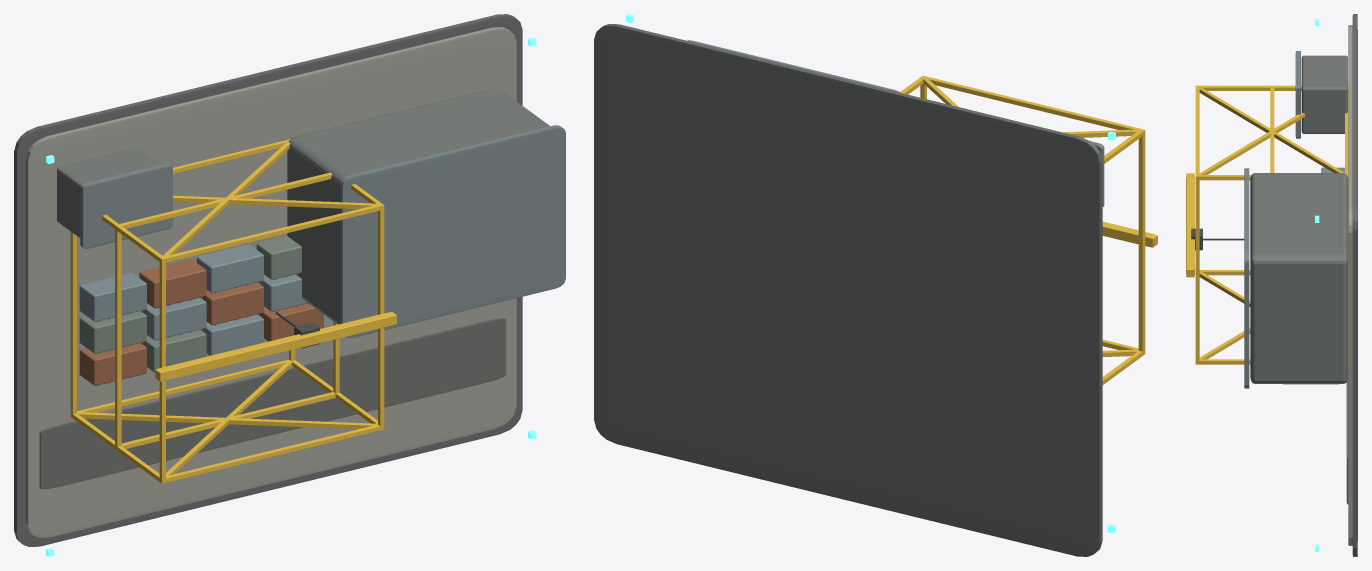
The model's file is b-08-logistics-hub-lod1.glb.
The picture shows the model from 3 angles, left to right: view 1: azimuth 30°, elevation 25°; view 2: azimuth 150°, elevation 25°; view 3: azimuth 270°, elevation 25°; orthographic projection. The views are drawn at different scales.
Parts seen in each view (by area): view 1: foundation_inner_pad, logistics_warehouse_roof, truck_lane_road, logistics_warehouse_main_hall, foundation, weigh_station_roof, main_gantry_crane_bridge, weigh_station_main_hall, freight_2_2_container, freight_2_0_container, freight_2_1_container, freight_0_0_container (+24 smaller); view 2: foundation, main_gantry_crane_beam_y_2_w, main_gantry_crane_beam_x_2_n, main_gantry_crane_bridge; view 3: logistics_warehouse_main_hall, weigh_station_main_hall, foundation, foundation_inner_pad, logistics_warehouse_roof, main_gantry_crane_brace_b_3.95, main_gantry_crane_beam_y_2_e, main_gantry_crane_bridge, main_gantry_crane_brace_a_3.95, main_gantry_crane_column_w_n, weigh_station_roof, main_gantry_crane_beam_x_2_n (+8 smaller).
Part boxes in pixels (box(x1,y1,x2,y2)): foundation_inner_pad: box(25, 27, 516, 537); logistics_warehouse_roof: box(340, 125, 565, 338); truck_lane_road: box(39, 318, 506, 489); logistics_warehouse_main_hall: box(287, 88, 549, 324); foundation: box(14, 14, 522, 547); weigh_station_roof: box(80, 163, 172, 248); main_gantry_crane_bridge: box(155, 312, 396, 381); weigh_station_main_hall: box(57, 148, 160, 238); freight_2_2_container: box(196, 244, 263, 293); freight_2_0_container: box(79, 273, 146, 321); freight_2_1_container: box(139, 259, 206, 308); freight_0_0_container: box(79, 343, 146, 385); foundation: box(594, 24, 1102, 556); main_gantry_crane_beam_y_2_w: box(1138, 129, 1145, 351); main_gantry_crane_beam_x_2_n: box(924, 76, 1145, 135); main_gantry_crane_bridge: box(1102, 221, 1157, 247); logistics_warehouse_main_hall: box(1250, 173, 1347, 383); weigh_station_main_hall: box(1301, 55, 1347, 133); foundation: box(1352, 14, 1357, 556); foundation_inner_pad: box(1348, 25, 1352, 545); logistics_warehouse_roof: box(1244, 168, 1249, 388); main_gantry_crane_brace_b_3.95: box(1199, 87, 1344, 173); main_gantry_crane_beam_y_2_e: box(1195, 175, 1199, 363); main_gantry_crane_bridge: box(1186, 173, 1194, 277); main_gantry_crane_brace_a_3.95: box(1199, 112, 1304, 174); main_gantry_crane_column_w_n: box(1199, 85, 1301, 90); weigh_station_roof: box(1295, 51, 1300, 138); main_gantry_crane_beam_x_2_n: box(1195, 86, 1199, 180).
Size of what is drawn, in the model's own units: 19 by 15 by 6.67.
